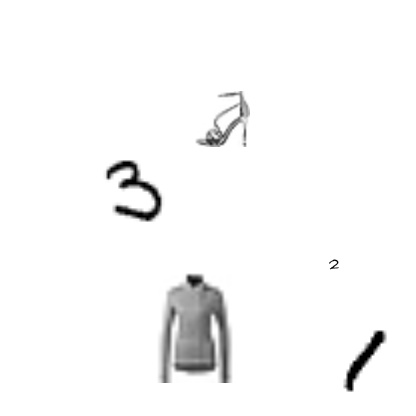1: (320, 316, 404, 400)
2: (327, 257, 341, 271)
3: (92, 149, 176, 233)
Coat: (139, 271, 251, 383)
Sandal: (194, 91, 250, 147)
